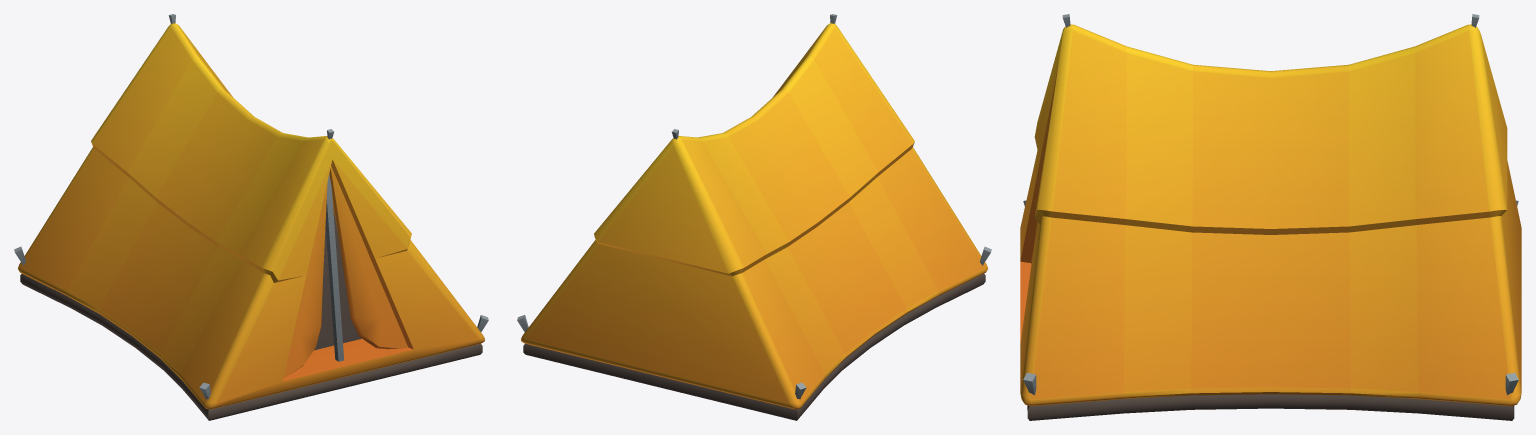
File: Tent.obj
3 renders of one model, left to right at view 1: azimuth 30°, elevation 25°; view 2: azimuth 150°, elevation 25°; view 3: azimuth 270°, elevation 25°, orthographic. The views are drawn at different scales.
Parts seen in each view (by area): view 1: Tent; view 2: Tent; view 3: Tent.
Part boxes in pixels (x1=…): Tent: x1=14, y1=14, x2=488, y2=420; Tent: x1=517, y1=14, x2=991, y2=420; Tent: x1=1020, y1=14, x2=1521, y2=420.
Bounding box in the file's own units: 2.57 × 2.1 × 2.98.
1 material, 1 textured.
